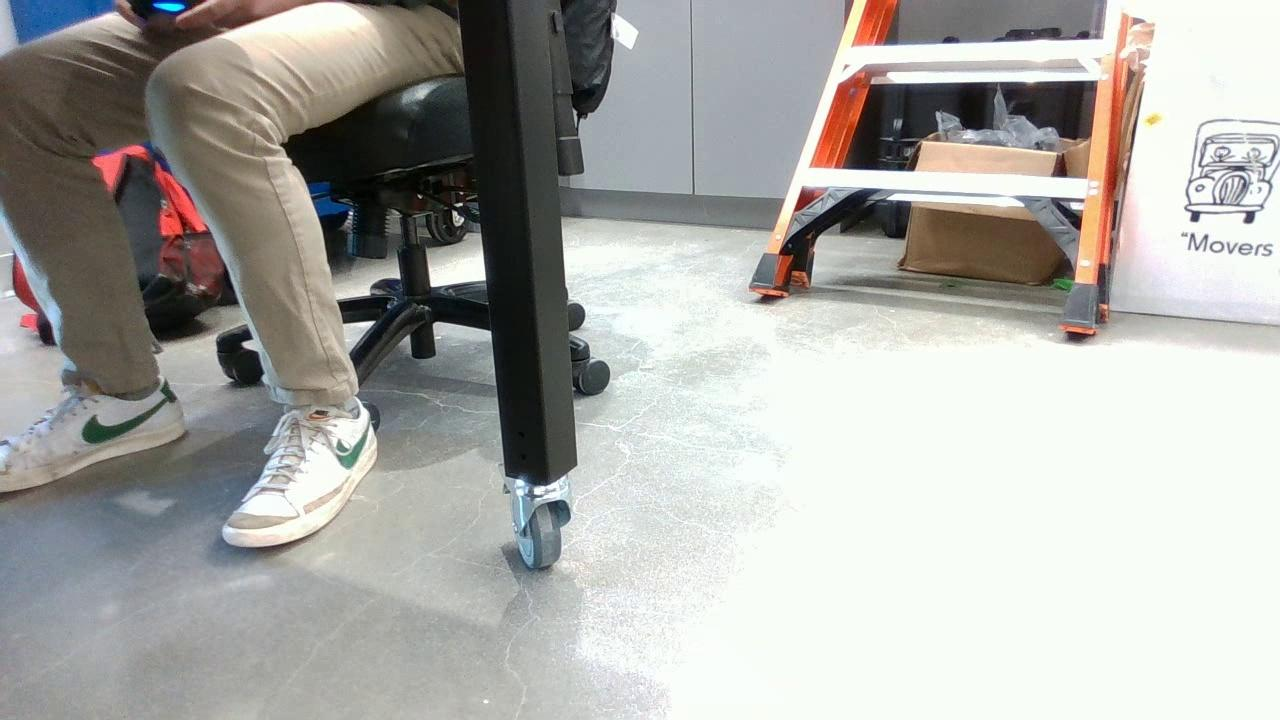grasshopper: (1050, 276, 1073, 290)
